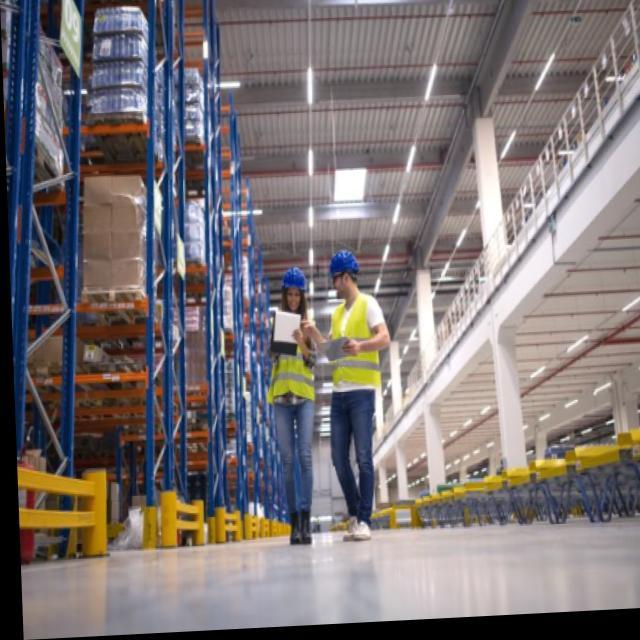hard_hat: (326, 248, 361, 294), (279, 263, 310, 313)
shoes: (283, 505, 316, 549)
vest: (325, 290, 385, 395), (264, 310, 322, 407)
